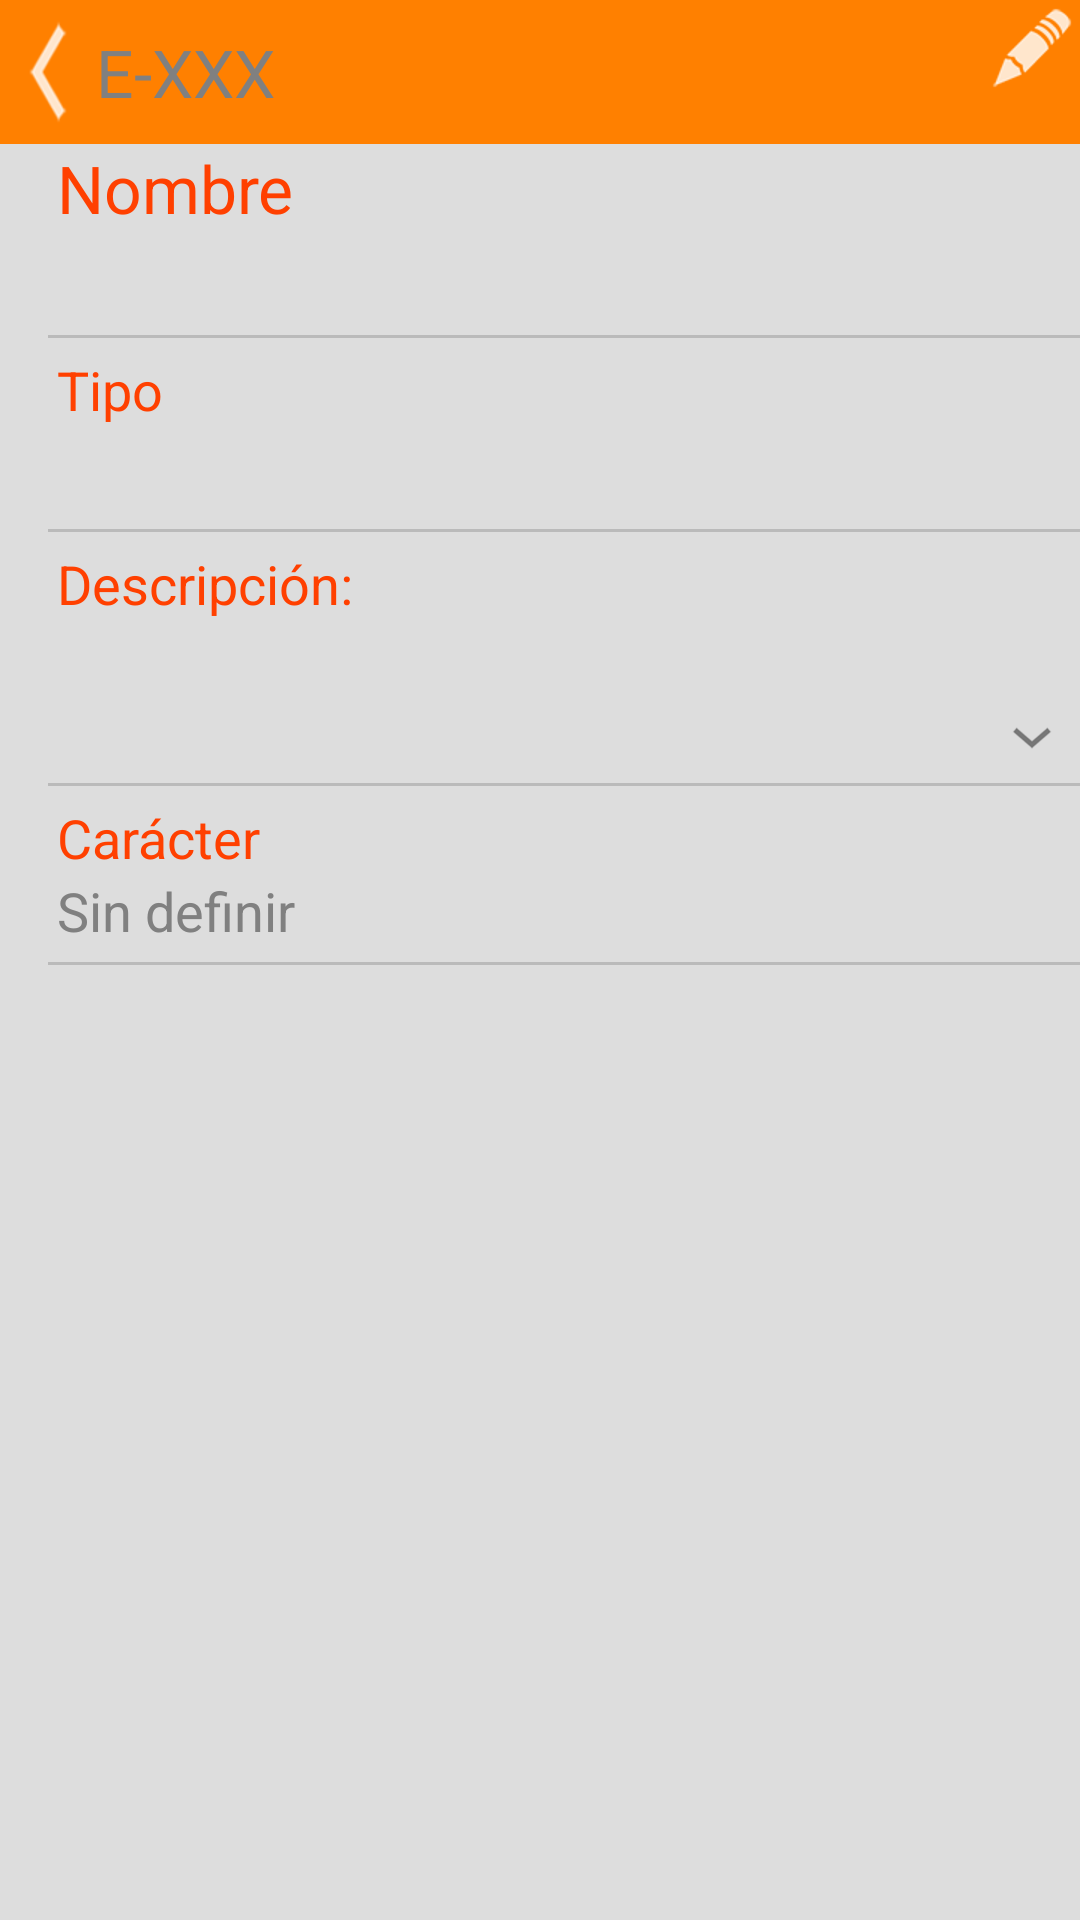

Icon bounding boxes for this 1080px x 1920px phone screenshot, format (x1, y1, x2, y2):
Flecha de extend y collapse: (1013, 728, 1051, 748)
